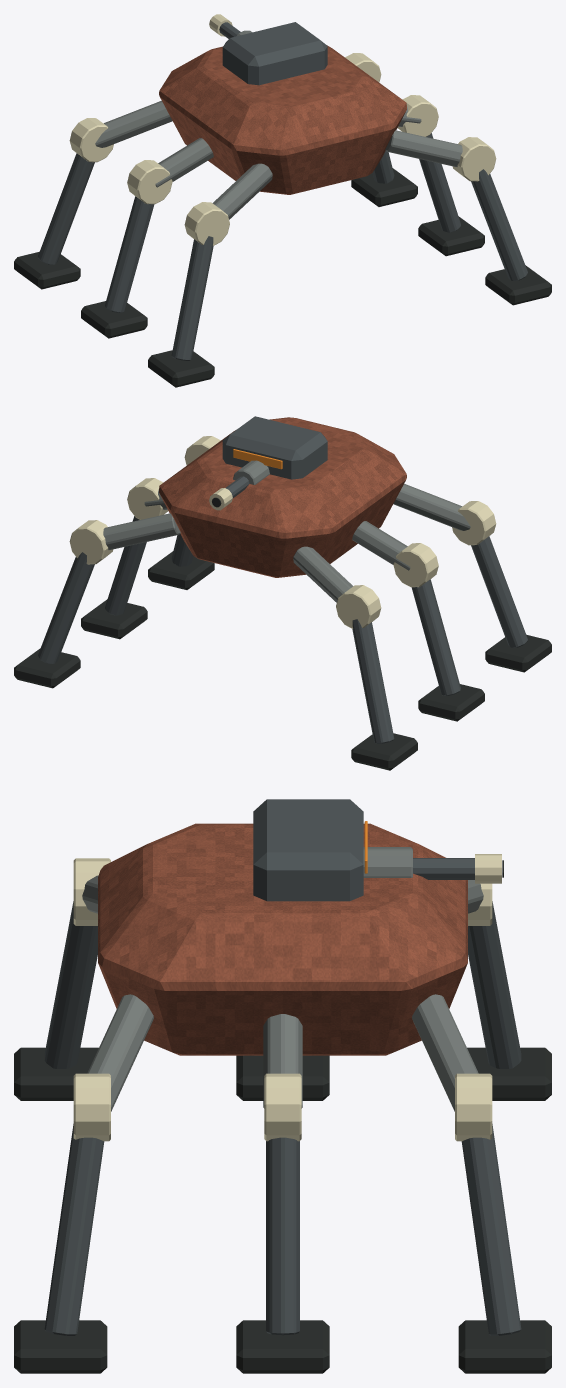
3 views of the same model, one above another, from view 1: azimuth 30°, elevation 25°; view 2: azimuth 150°, elevation 25°; view 3: azimuth 270°, elevation 25° (orthographic). The views are drawn at different scales.
Visible parts, largest first — view 1: ST2-E04_Mesh, Knee_Mesh, Knee.001_Mesh, Knee.003_Mesh, Knee.002_Mesh, TurretYaw_Mesh, Knee.004_Mesh, Knee.005_Mesh, Hip_R0_Mesh, Hip_L2_Mesh, Hip_L0_Mesh, Hip_L1_Mesh (+1 smaller); view 2: ST2-E04_Mesh, Knee.002_Mesh, Knee.001_Mesh, Knee.005_Mesh, Knee_Mesh, TurretYaw_Mesh, Knee.004_Mesh, Knee.003_Mesh, Hip_R2_Mesh, Hip_L0_Mesh, Hip_L2_Mesh, Hip_L1_Mesh (+1 smaller); view 3: ST2-E04_Mesh, Knee.003_Mesh, Knee.005_Mesh, Knee.004_Mesh, TurretYaw_Mesh, Knee_Mesh, Knee.002_Mesh, BarrelRecoil_Mesh, Hip_R0_Mesh, Hip_R2_Mesh, Knee.001_Mesh, Hip_R1_Mesh.
Part boxes in pixels (bbox=[...]): ST2-E04_Mesh: bbox=[159, 45, 406, 194]; Knee_Mesh: bbox=[148, 202, 229, 387]; Knee.001_Mesh: bbox=[81, 160, 172, 338]; Knee.003_Mesh: bbox=[452, 137, 551, 305]; Knee.002_Mesh: bbox=[14, 118, 113, 289]; TurretYaw_Mesh: bbox=[222, 22, 327, 85]; Knee.004_Mesh: bbox=[397, 95, 484, 256]; Knee.005_Mesh: bbox=[345, 53, 417, 206]; Hip_R0_Mesh: bbox=[385, 130, 462, 166]; Hip_L2_Mesh: bbox=[95, 100, 172, 147]; Hip_L0_Mesh: bbox=[212, 163, 272, 219]; Hip_L1_Mesh: bbox=[155, 138, 213, 187]; ST2-E04_Mesh: bbox=[159, 417, 406, 577]; Knee.002_Mesh: bbox=[336, 585, 417, 770]; Knee.001_Mesh: bbox=[393, 543, 484, 721]; Knee.005_Mesh: bbox=[14, 520, 113, 688]; Knee_Mesh: bbox=[452, 501, 551, 672]; TurretYaw_Mesh: bbox=[222, 416, 327, 479]; Knee.004_Mesh: bbox=[81, 478, 168, 639]; Knee.003_Mesh: bbox=[148, 436, 220, 589]; Hip_R2_Mesh: bbox=[103, 513, 180, 549]; Hip_L0_Mesh: bbox=[393, 483, 470, 530]; Hip_L2_Mesh: bbox=[293, 546, 353, 602]; Hip_L1_Mesh: bbox=[352, 521, 410, 570]; ST2-E04_Mesh: bbox=[98, 823, 467, 1055]; Knee.003_Mesh: bbox=[14, 1073, 110, 1373]; Knee.005_Mesh: bbox=[455, 1073, 551, 1373]; Knee.004_Mesh: bbox=[236, 1073, 329, 1373]; TurretYaw_Mesh: bbox=[253, 799, 367, 901]; Knee_Mesh: bbox=[14, 858, 110, 1100]; Knee.002_Mesh: bbox=[467, 883, 551, 1100]; BarrelRecoil_Mesh: bbox=[363, 847, 503, 883]; Hip_R0_Mesh: bbox=[87, 994, 153, 1111]; Hip_R2_Mesh: bbox=[412, 994, 478, 1111]; Knee.001_Mesh: bbox=[236, 1055, 329, 1100]; Hip_R1_Mesh: bbox=[263, 1014, 302, 1108].
Size of the model in its own units: 4.28 by 2.58 by 3.17.
Materials: 6 (1 with a texture image).
